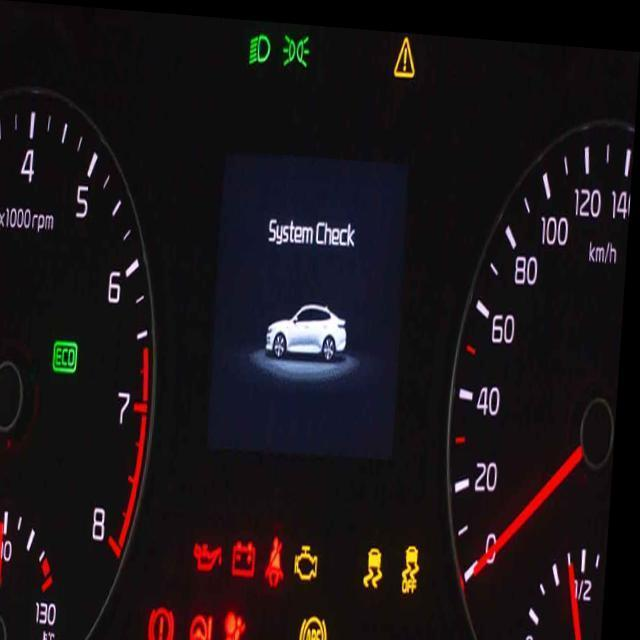Electronic Power Steering: (185, 613, 216, 640)
Seat Belt: (262, 538, 284, 588)
